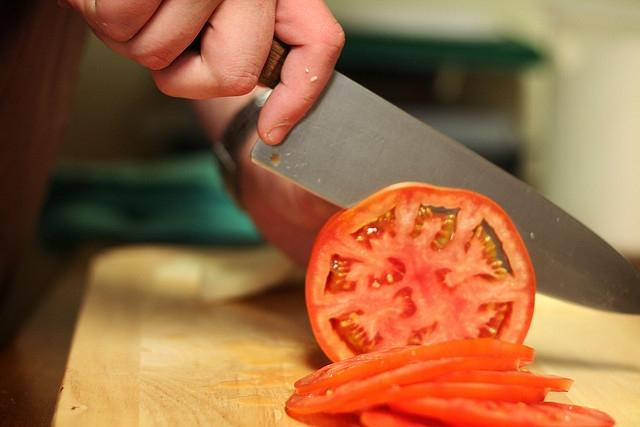tomato: (305, 182, 536, 362), (286, 356, 520, 414), (294, 337, 536, 393), (319, 382, 552, 414), (383, 395, 615, 426), (420, 370, 574, 390), (361, 410, 456, 427)
